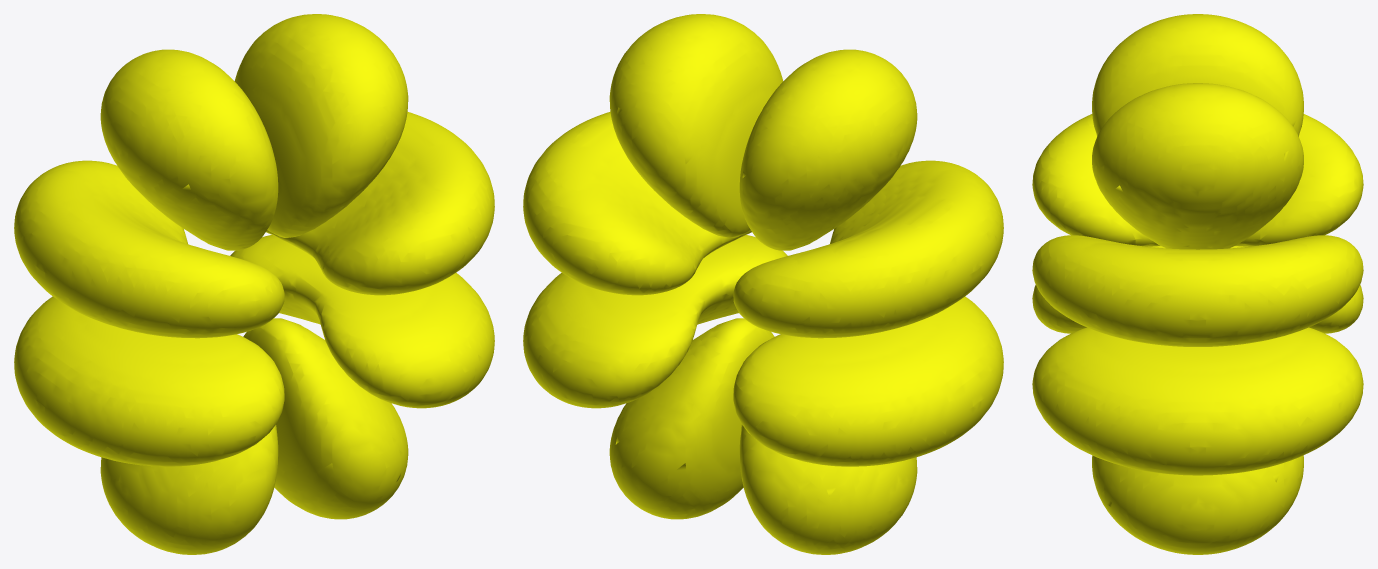
Rendered from orb_n=5_ l=4 _m=1.fbx.
3 renders of one model, left to right at view 1: azimuth 30°, elevation 25°; view 2: azimuth 150°, elevation 25°; view 3: azimuth 270°, elevation 25°, orthographic. The views are drawn at different scales.
Visible parts, largest first — view 1: orb_n=5_ l=4 _m=1; view 2: orb_n=5_ l=4 _m=1; view 3: orb_n=5_ l=4 _m=1.
Boxes of the visible parts, box(x1,y1,x2,y2) form: orb_n=5_ l=4 _m=1: box(14, 14, 494, 554); orb_n=5_ l=4 _m=1: box(523, 14, 1003, 554); orb_n=5_ l=4 _m=1: box(1032, 14, 1363, 554).
Size of the model in its own units: 8808 by 9517 by 6216.
